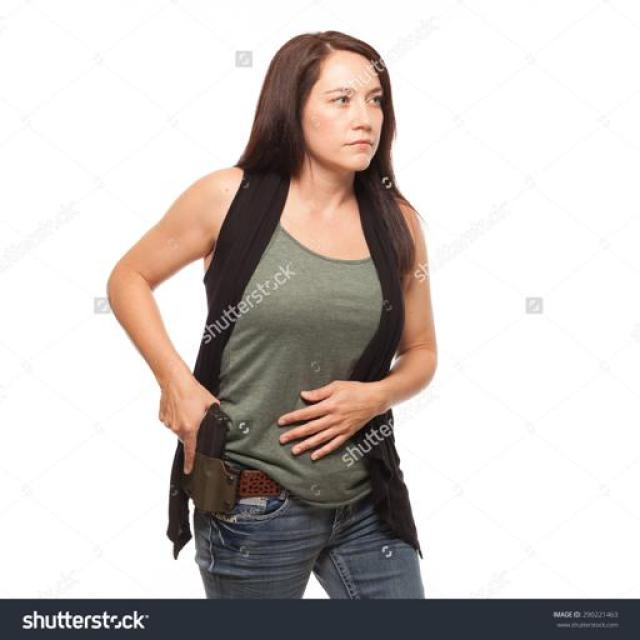pistol: (171, 400, 233, 512)
